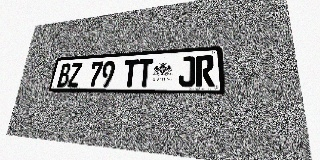7: (87, 61, 103, 87)
9: (100, 61, 116, 87)
B: (56, 63, 72, 87)
J: (178, 56, 195, 87)
R: (196, 55, 214, 87)
T: (122, 59, 139, 87), (137, 58, 153, 87)
Z: (67, 62, 83, 87)
